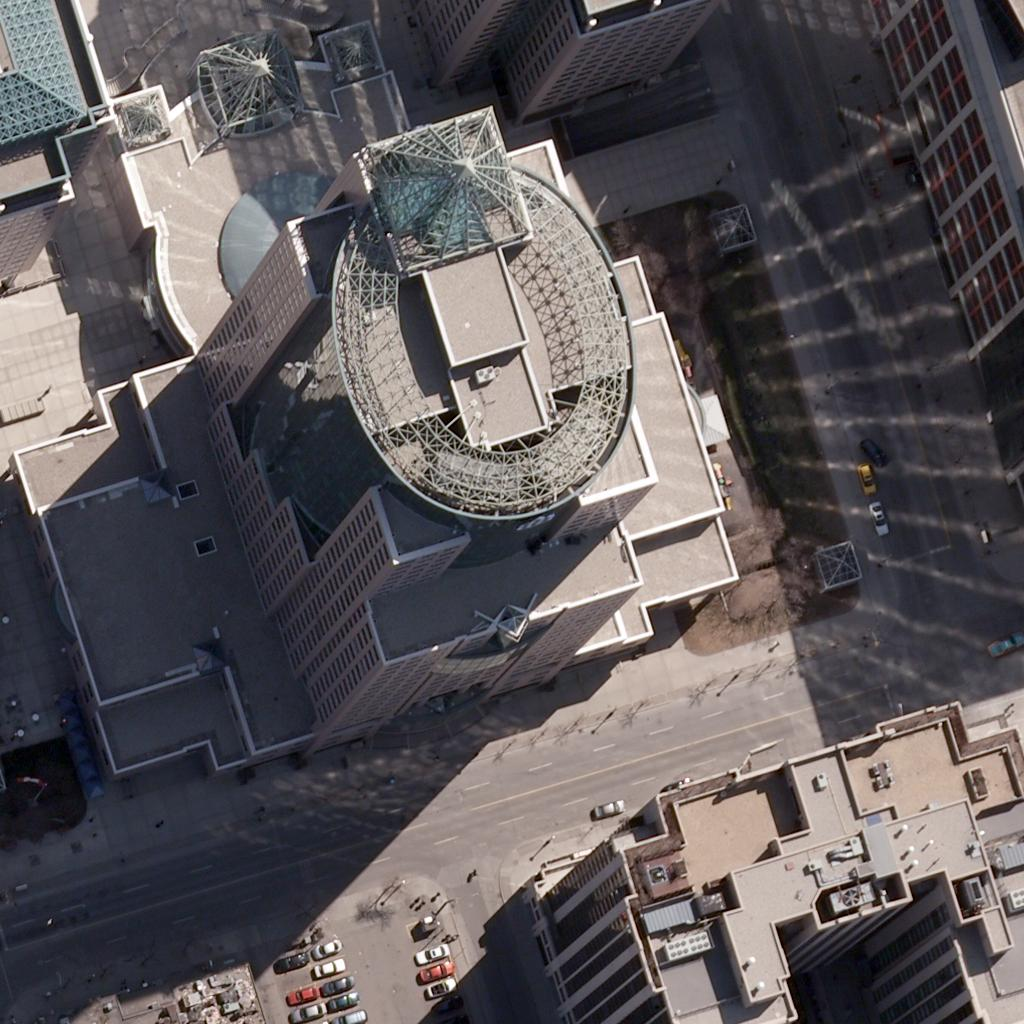car: (856, 433, 890, 467), (849, 458, 883, 492), (860, 497, 894, 531), (990, 625, 1024, 659), (591, 791, 625, 825), (312, 931, 346, 965), (414, 934, 448, 968), (272, 942, 306, 976), (311, 950, 345, 984), (419, 952, 453, 986), (323, 965, 357, 999), (424, 968, 458, 1002), (288, 975, 322, 1009), (326, 983, 360, 1017), (433, 985, 467, 1019), (290, 995, 324, 1024), (331, 1002, 365, 1024)
